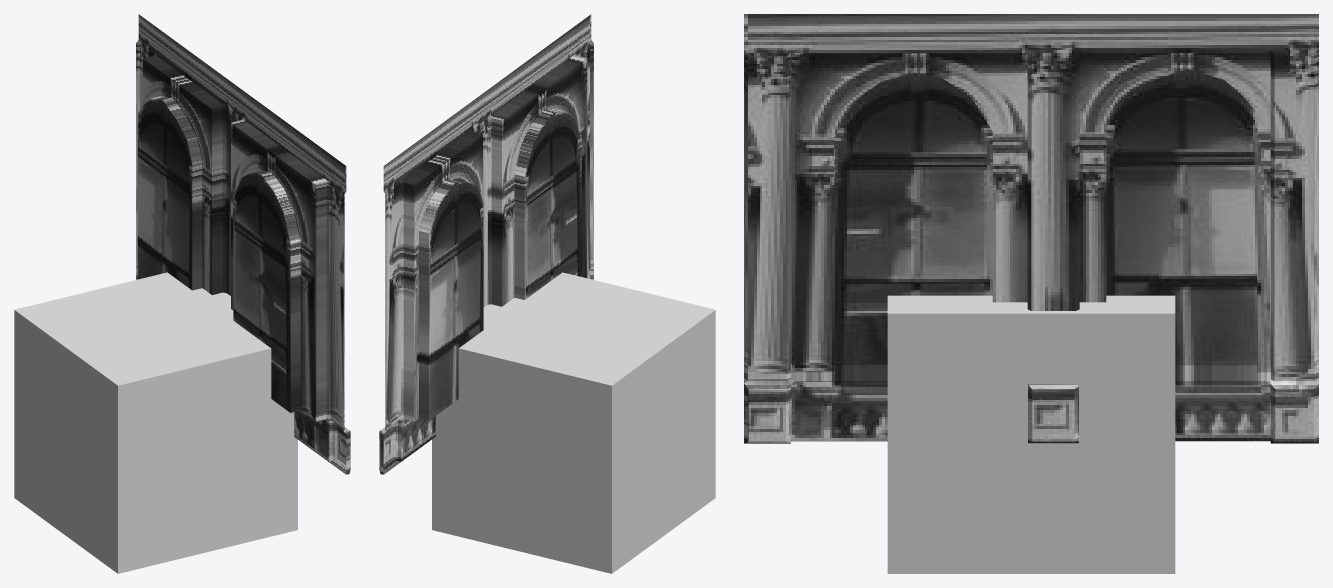
The model's file is building2_lores.glb.
The picture shows the model from 3 angles, left to right: view 1: azimuth 30°, elevation 25°; view 2: azimuth 150°, elevation 25°; view 3: azimuth 270°, elevation 25°; orthographic projection. The views are drawn at different scales.
Parts seen in each view (by area): view 1: Cube.001, Cube; view 2: Cube.001, Cube; view 3: Cube, Cube.001.
Part boxes in pixels (bbox=[...]): Cube.001: bbox=[14, 272, 297, 573]; Cube: bbox=[136, 14, 350, 474]; Cube.001: bbox=[432, 272, 715, 573]; Cube: bbox=[379, 14, 593, 474]; Cube: bbox=[744, 14, 1318, 443]; Cube.001: bbox=[887, 295, 1175, 573].
Bounding box in the file's own units: 1.01 × 2.14 × 2.
Materials: 1 (1 with a texture image).
